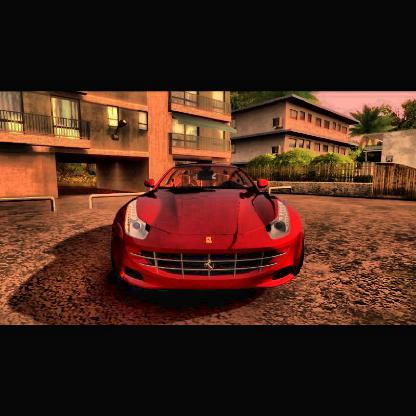Ferrari FF Coupe 2012: (112, 164, 307, 295)
